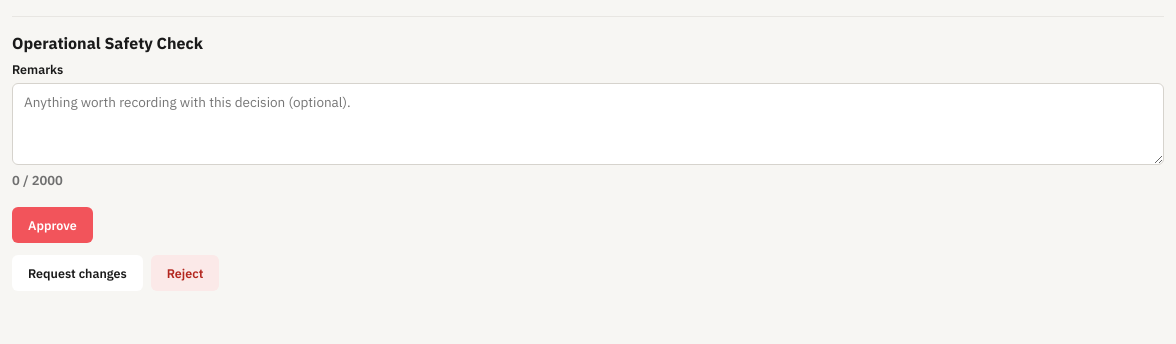
Test: cancelling the approve confirm step sends nothing
Click the button "Approve". click: x=52, y=225
box: [12,207,93,243]
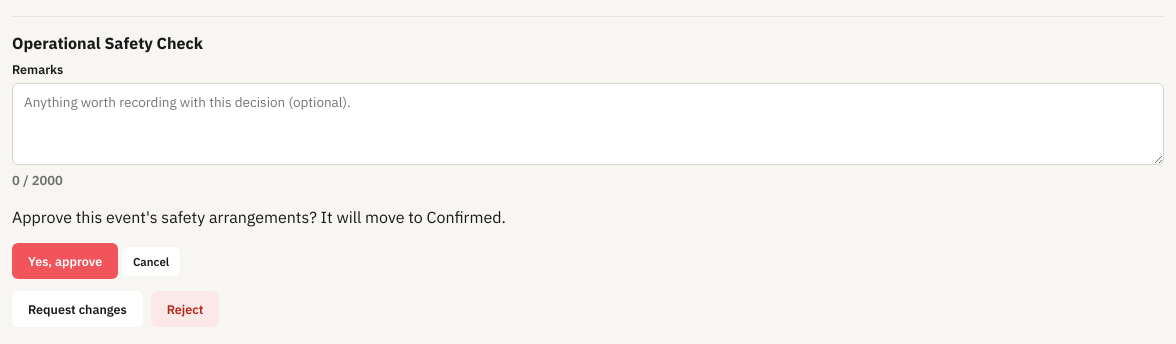
Click the button "Cancel". click: x=151, y=262
box: [122,247,180,276]
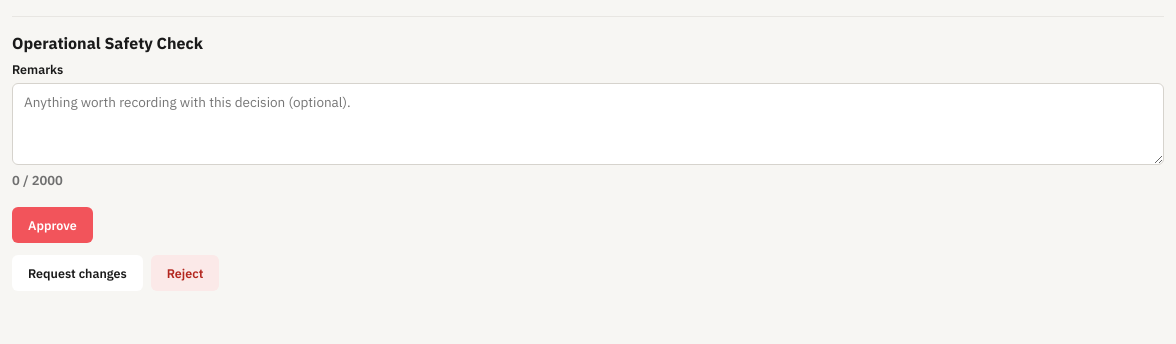
Expected: the text "It will move to Confirmed" is gone
